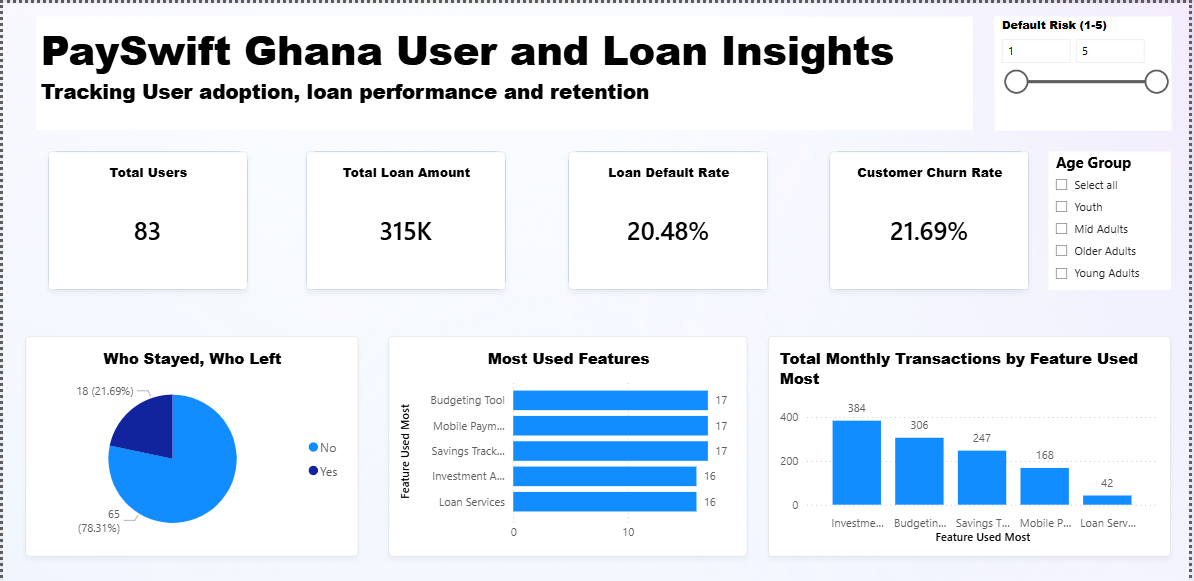

The dashboard page shown, as its layout file describes it:
{"tool":"powerbi","page":{"name":"Page 1","canvas":[1280,720],"ordinal":0},"visuals":[{"type":"shape","box":[892,160.6,215.4,149.3],"z":0},{"type":"shape","box":[610.4,160.6,215.4,149.3],"z":1000},{"type":"shape","box":[326.9,160.6,215.4,149.3],"z":2000},{"type":"shape","box":[49.1,160.6,215.4,149.3],"z":3000},{"type":"textbox","box":[35.9,15.1,1011,122.8],"z":4000},{"type":"card","title":"Total Users","fields":{"Values":["CountNonNull(C3.User ID)"]},"box":[49.1,160.6,215.4,149.3],"z":5000},{"type":"card","title":"Total Loan Amount","fields":{"Values":["Sum(C3.Loan Amount (GHS))"]},"box":[326.9,160.6,215.4,149.3],"z":6000},{"type":"card","title":"Loan Default Rate","fields":{"Values":["C3.Default Rate(%)"]},"box":[610.4,160.6,215.4,149.3],"z":7000},{"type":"card","title":"Customer Churn Rate","fields":{"Values":["C3.Churn Rate"]},"box":[892,160.6,215.4,149.3],"z":8000},{"type":"pieChart","title":"Who Stayed, Who Left","fields":{"Category":["C3.Churned?"],"Y":["CountNonNull(C3.User ID)"]},"box":[24.6,359.1,359.1,238.1],"z":9000},{"type":"barChart","title":"Most Used Features","fields":{"Y":["CountNonNull(C3.User ID)"],"Category":["C3.Feature Used Most"]},"box":[415.8,359.1,387.4,238.1],"z":10000},{"type":"clusteredColumnChart","title":"Total Monthly Transactions by Feature Used Most","fields":{"Y":["Sum(C3.Monthly Transactions)"],"Category":["C3.Feature Used Most"]},"box":[825.8,359.1,434.6,238.1],"z":11000},{"type":"slicer","fields":{"Values":["C3.Age Group"]},"box":[1128.2,160.6,132.3,149.3],"z":12000},{"type":"slicer","fields":{"Values":["C3.Default Risk (1-5)"]},"box":[1069.6,15.1,190.9,122.8],"z":13000},{"type":"textbox","box":[24.6,629.3,1254.8,71.8],"z":14000}]}

Visuals, with their boxes on the page's 1280x720 design canvas (x1, y1, x2, y2). These are canvas units, not pixel positions in the 1194x581 screenshot, which may show the page scaled, cropped or inside an application window:
shape: crop(892, 161, 1107, 310)
shape: crop(610, 161, 826, 310)
shape: crop(327, 161, 542, 310)
shape: crop(49, 161, 264, 310)
textbox: crop(36, 15, 1047, 138)
"Total Users" card: crop(49, 161, 264, 310)
"Total Loan Amount" card: crop(327, 161, 542, 310)
"Loan Default Rate" card: crop(610, 161, 826, 310)
"Customer Churn Rate" card: crop(892, 161, 1107, 310)
"Who Stayed, Who Left" pieChart: crop(25, 359, 384, 597)
"Most Used Features" barChart: crop(416, 359, 803, 597)
"Total Monthly Transactions by Feature Used Most" clusteredColumnChart: crop(826, 359, 1260, 597)
slicer - C3.Age Group: crop(1128, 161, 1260, 310)
slicer - C3.Default Risk (1-5): crop(1070, 15, 1260, 138)
textbox: crop(25, 629, 1279, 701)
